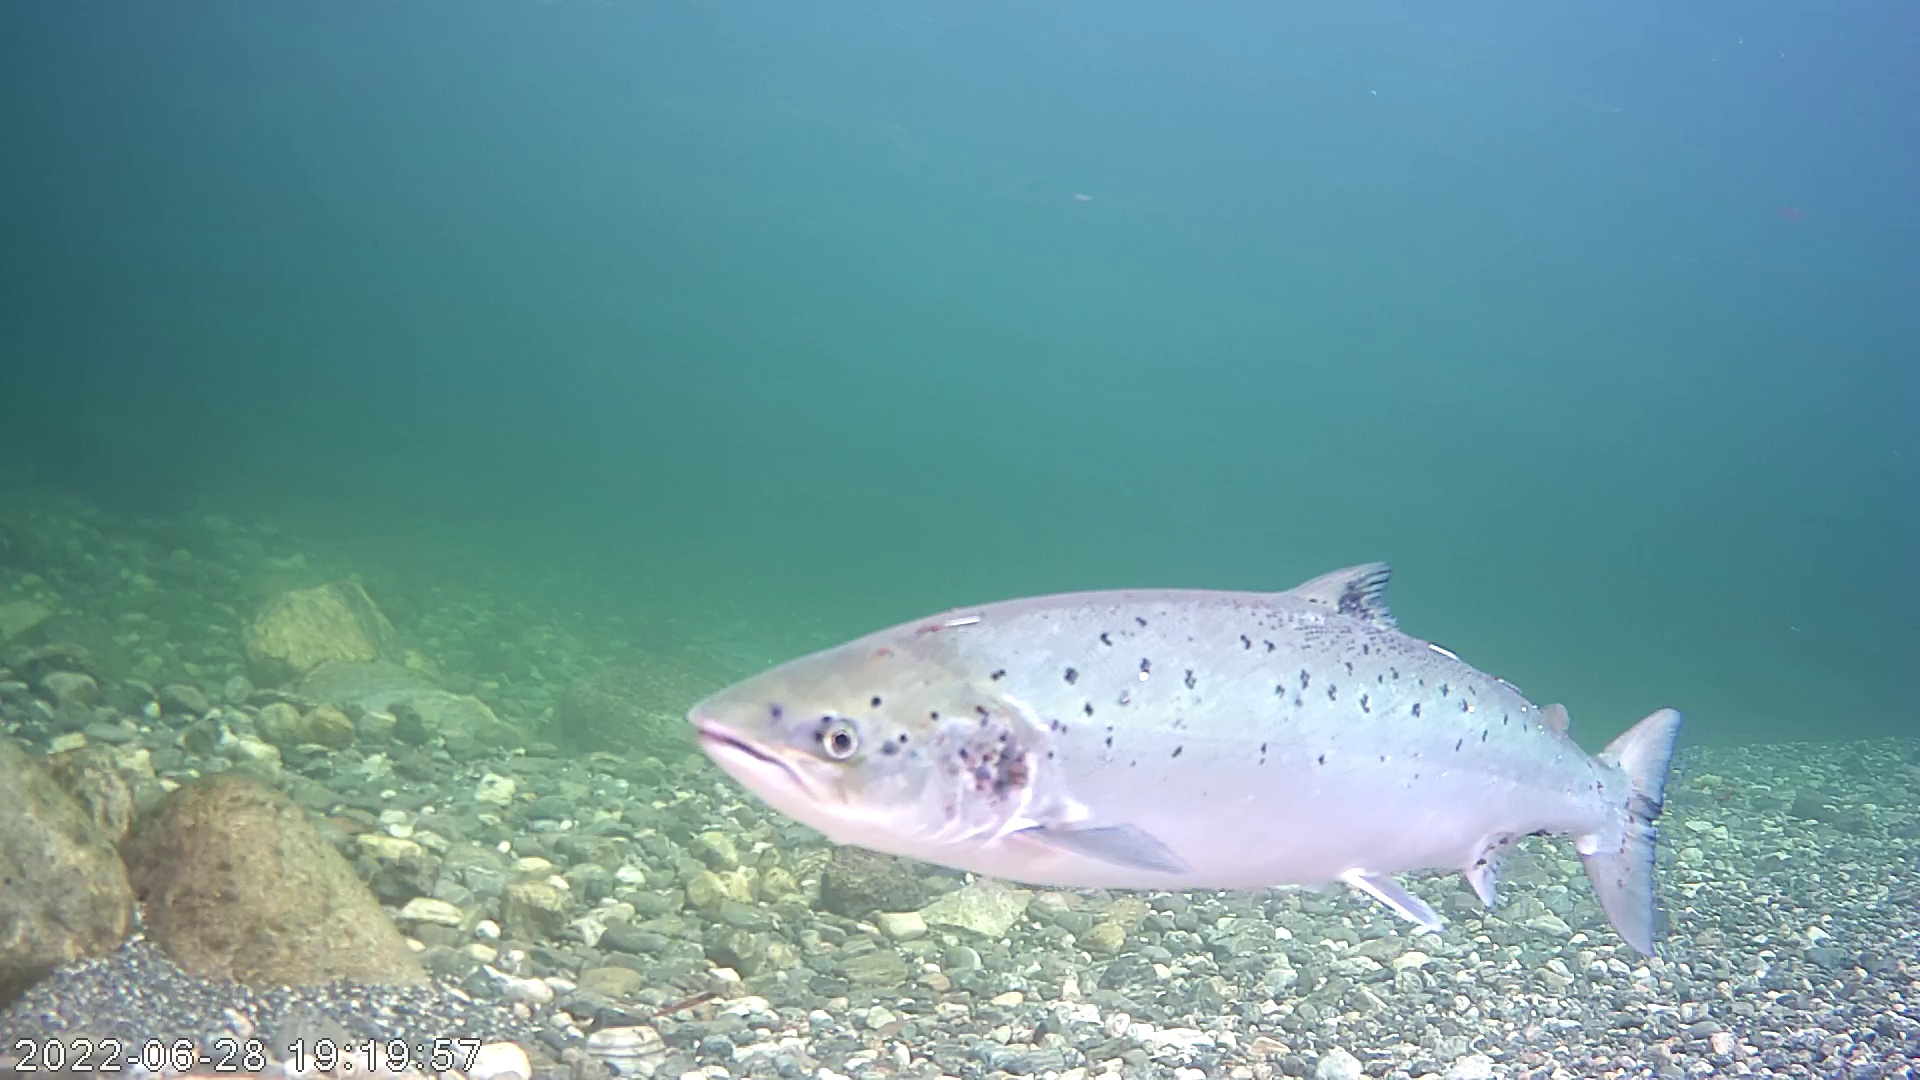salmon: (663, 473, 1698, 907)
